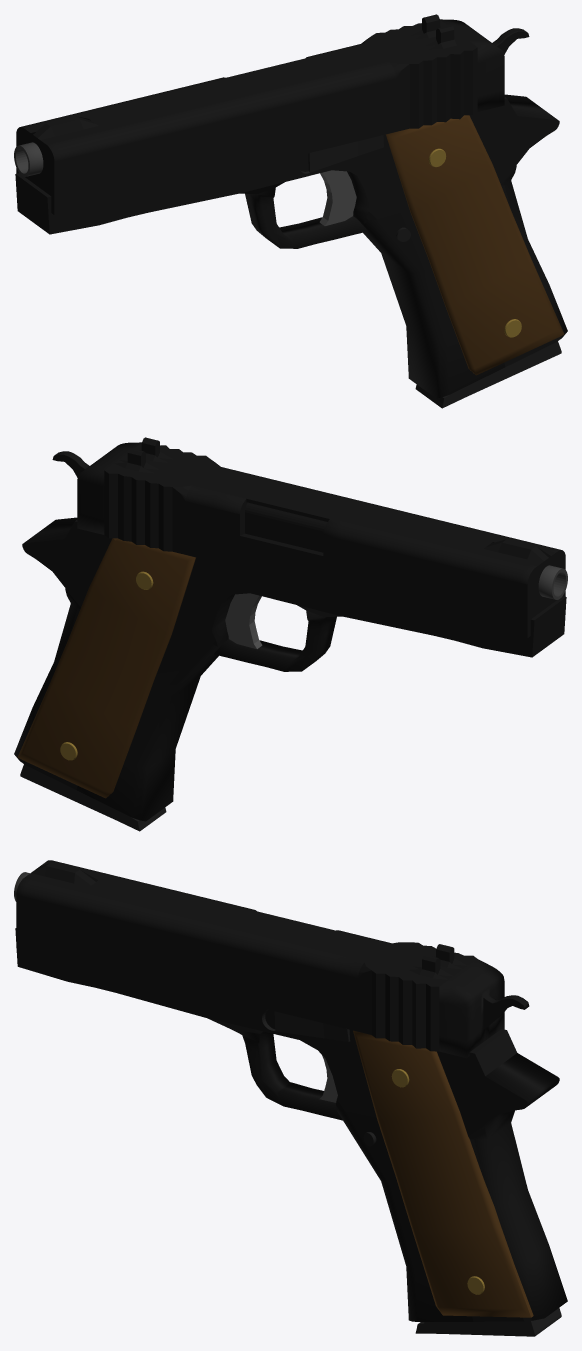
3 views of the same model, one above another, from view 1: azimuth 30°, elevation 25°; view 2: azimuth 150°, elevation 25°; view 3: azimuth 330°, elevation 25° (orthographic).
Parts seen in each view (by area): view 1: Barrel Top, Grip Metal, Handle Wood, Magazine, Trigger, Security, Barrel hole, Pins; view 2: Barrel Top, Grip Metal, Handle Wood, Magazine, Trigger, Barrel hole, Pins; view 3: Barrel Top, Grip Metal, Handle Wood, Magazine, Security.
Part boxes in pixels (x1,y1,x2,y2): Barrel Top: (16,14,529,215); Grip Metal: (15,94,567,398); Handle Wood: (386,115,564,375); Magazine: (415,341,561,408); Trigger: (319,170,356,225); Security: (300,135,383,173); Barrel hole: (14,142,43,176); Pins: (428,148,521,337); Barrel Top: (52,437,565,638); Grip Metal: (14,517,566,821); Handle Wood: (17,538,195,798); Magazine: (20,764,166,831); Trigger: (225,593,262,648); Barrel hole: (538,565,567,599); Pins: (60,571,153,760); Barrel Top: (16,860,529,1057); Grip Metal: (15,928,567,1321); Handle Wood: (353,1030,533,1317); Magazine: (415,1308,561,1336); Security: (262,1010,350,1041).
Bounding box in the file's own units: 493 × 330 × 69.38.
